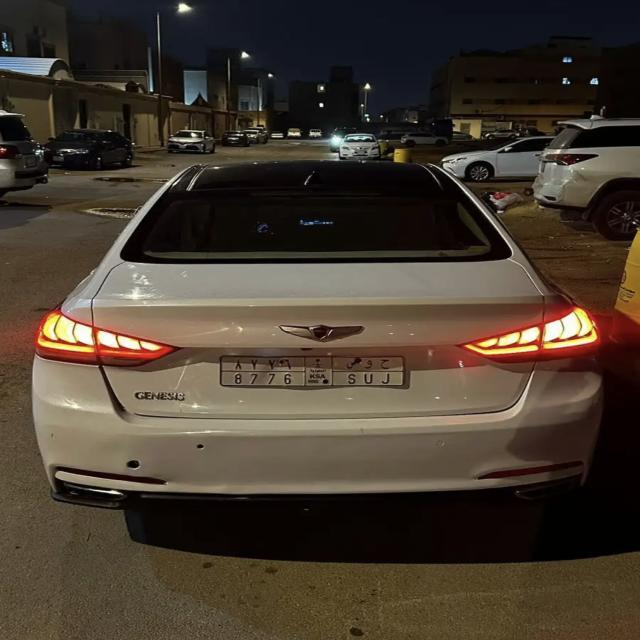license_plate: (218, 354, 406, 388)
